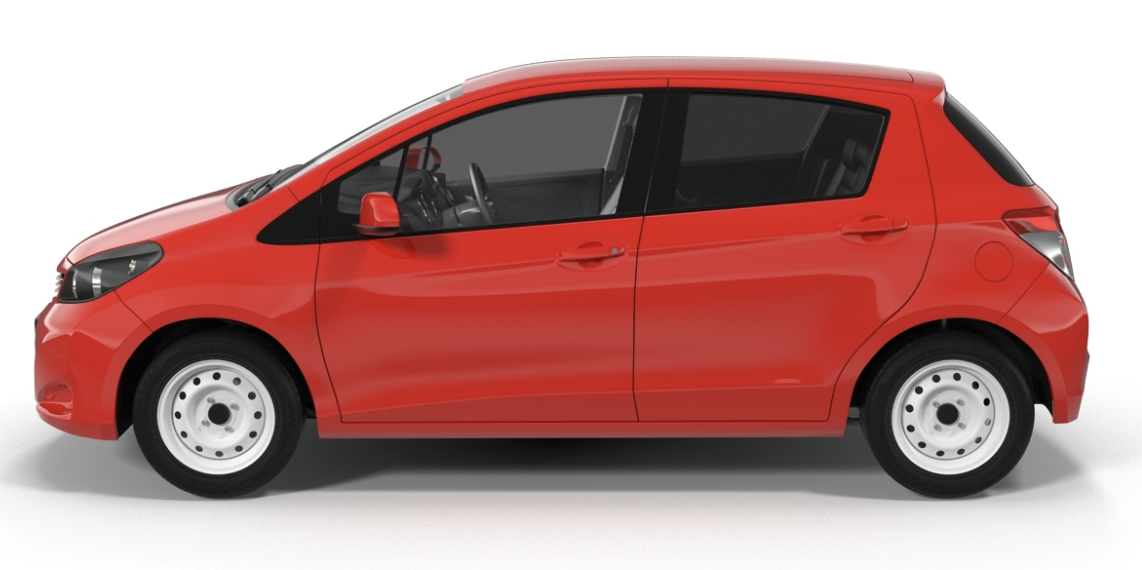hatch: (972, 238, 1016, 284)
